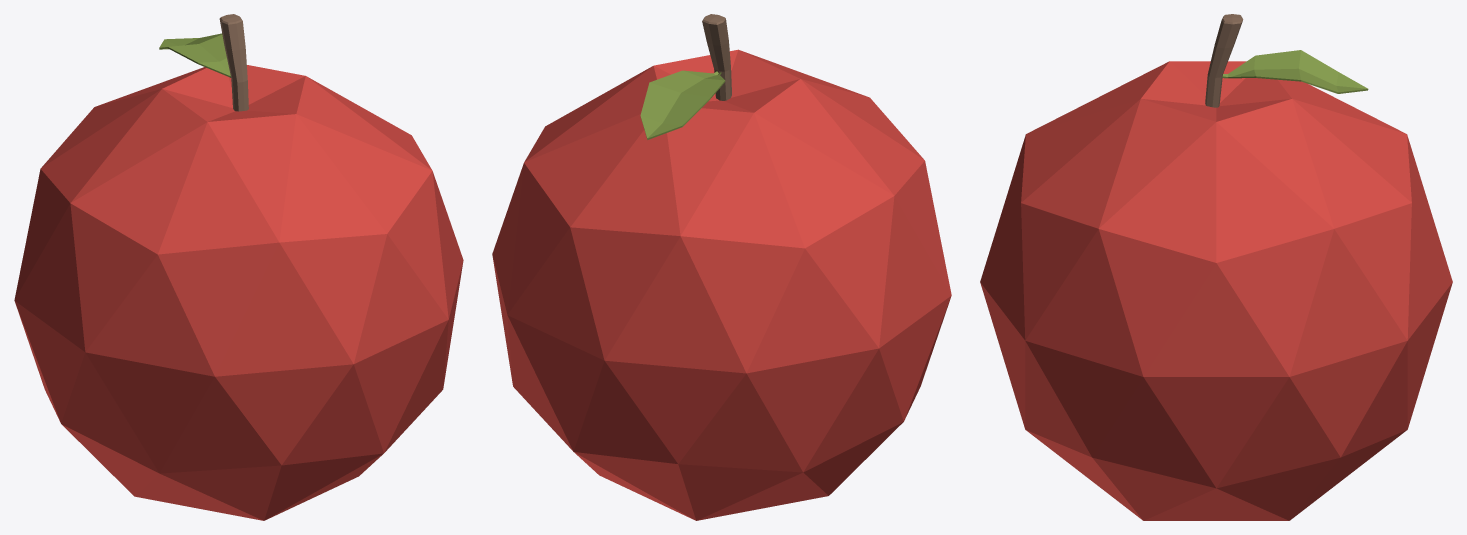
File: Apple_01.fbx
3 views of the same model, side by side, from view 1: azimuth 30°, elevation 25°; view 2: azimuth 150°, elevation 25°; view 3: azimuth 270°, elevation 25° (orthographic). The views are drawn at different scales.
Visible parts, largest first — view 1: Apple_01; view 2: Apple_01; view 3: Apple_01.
Boxes of the visible parts, x1,y1,x2,y2 form: Apple_01: [14, 14, 463, 520]; Apple_01: [492, 14, 951, 520]; Apple_01: [980, 14, 1452, 520].
Bounding box in the file's own units: 9.69 × 11.24 × 10.19.
